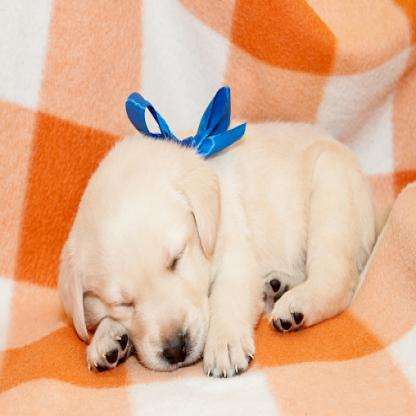dog: (54, 121, 376, 380)
